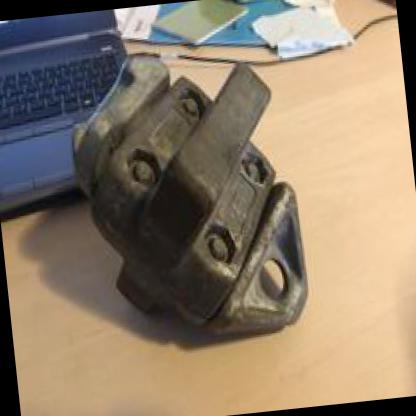Twistlock: (55, 18, 332, 370)
